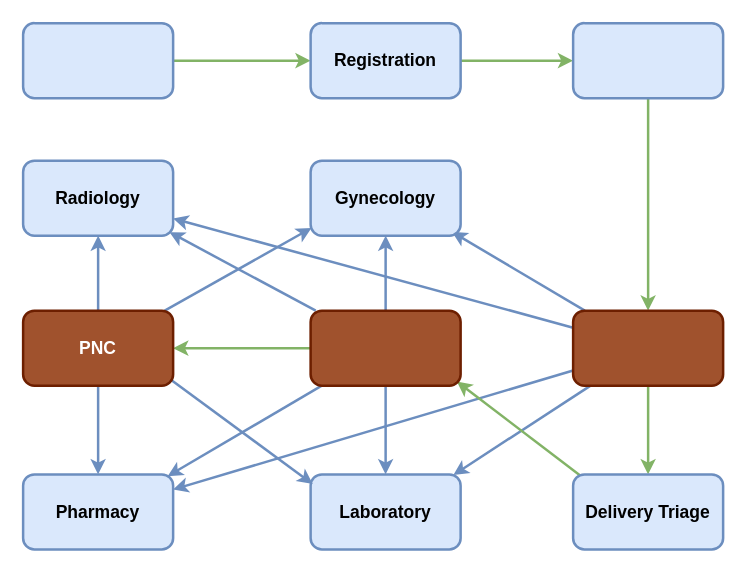
Some shapes in this 745 by 571 pixel diagram are drawn without their labels. Here are the shapes that lost their labels. From the top down, the centre of each, then its label:
the point at 97,60: ANC Triage
the point at 647,60: PITC
the point at 385,347: Delivery
the point at 647,347: ANC
